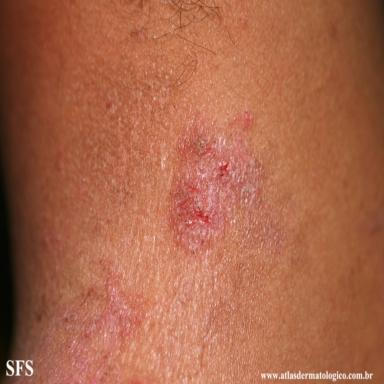Hailey-Hailey-Disease: (168, 112, 262, 253), (41, 274, 143, 382)
